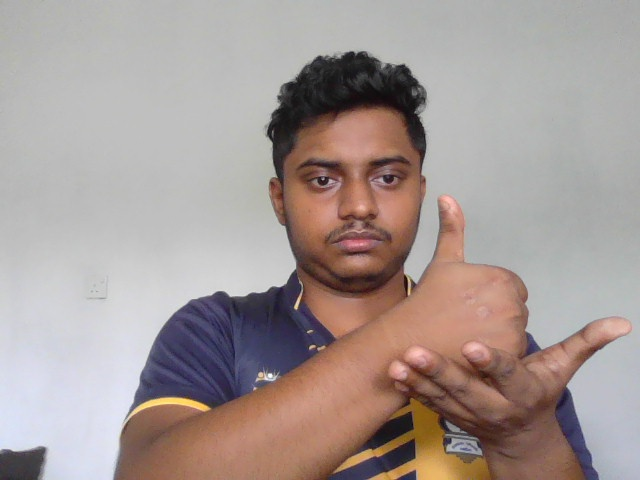Help: (388, 191, 633, 437)
